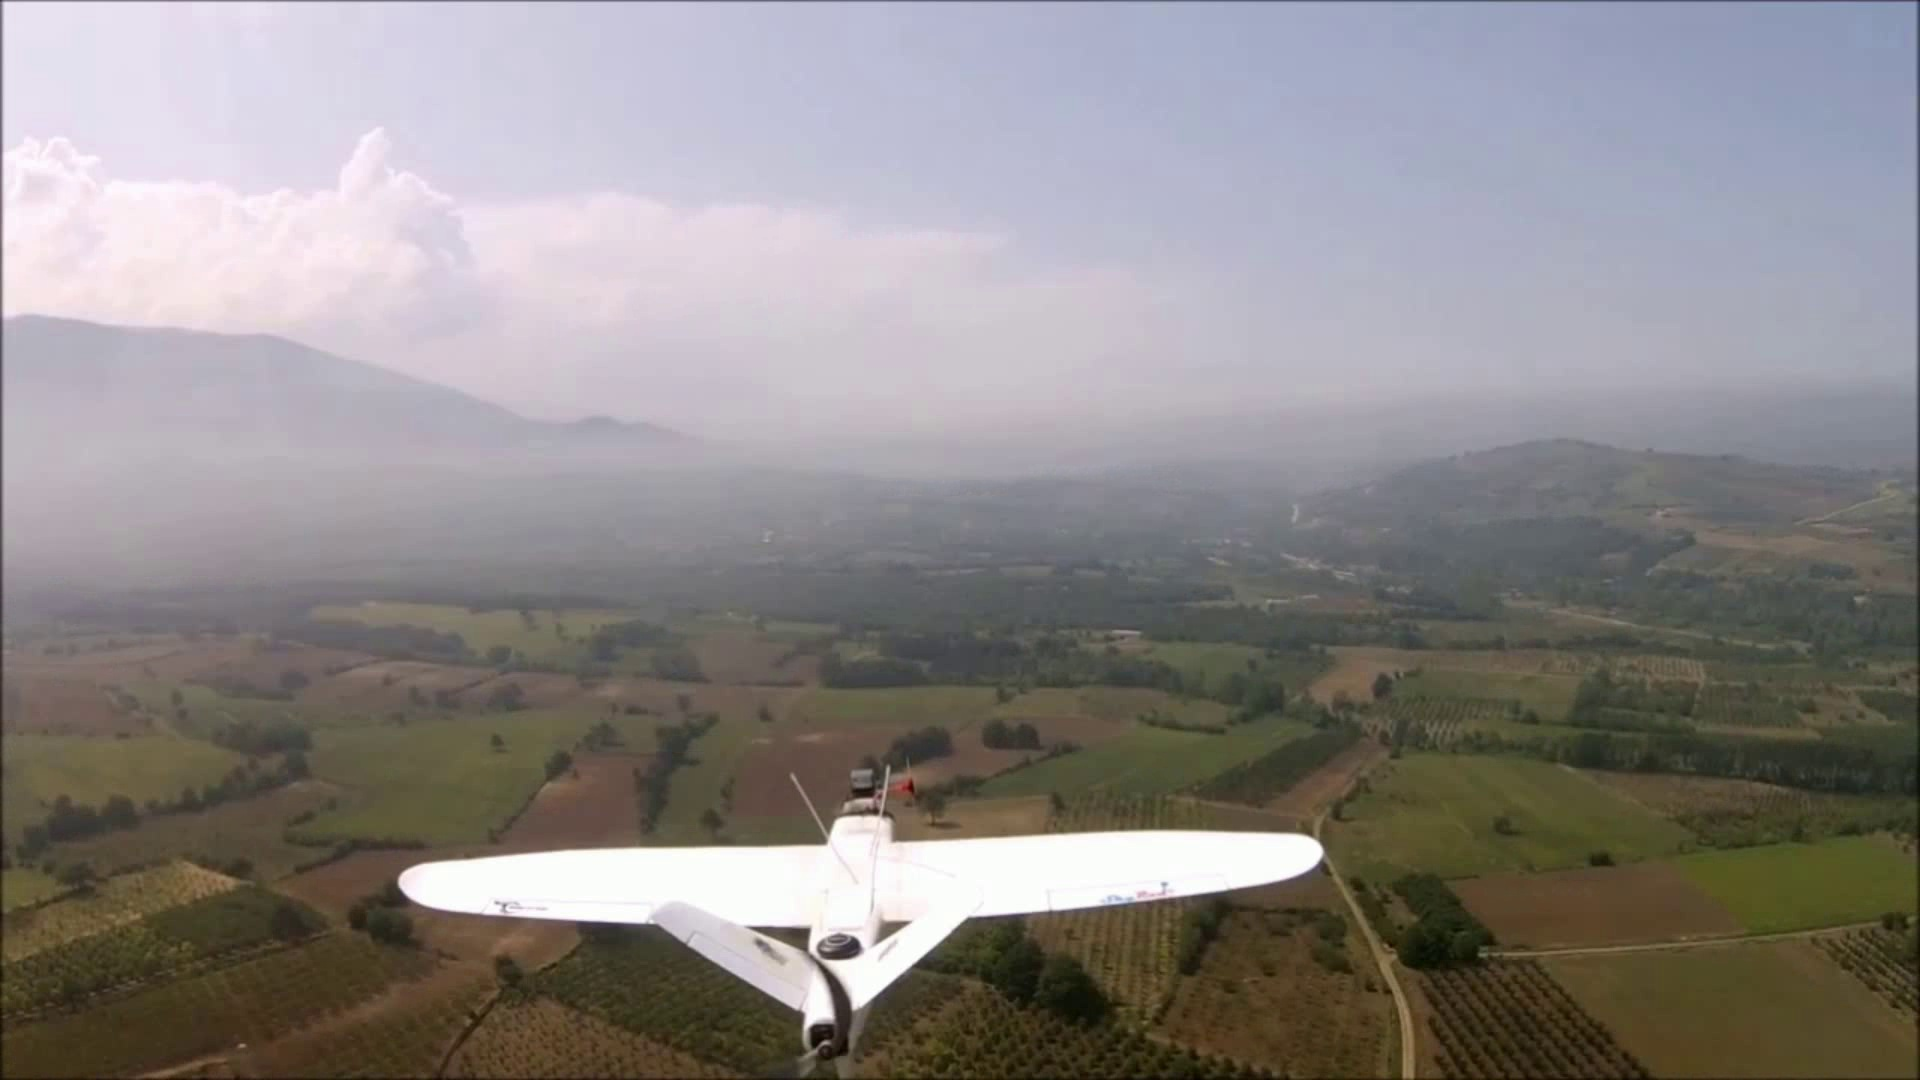airplane: (391, 780, 1329, 1066)
